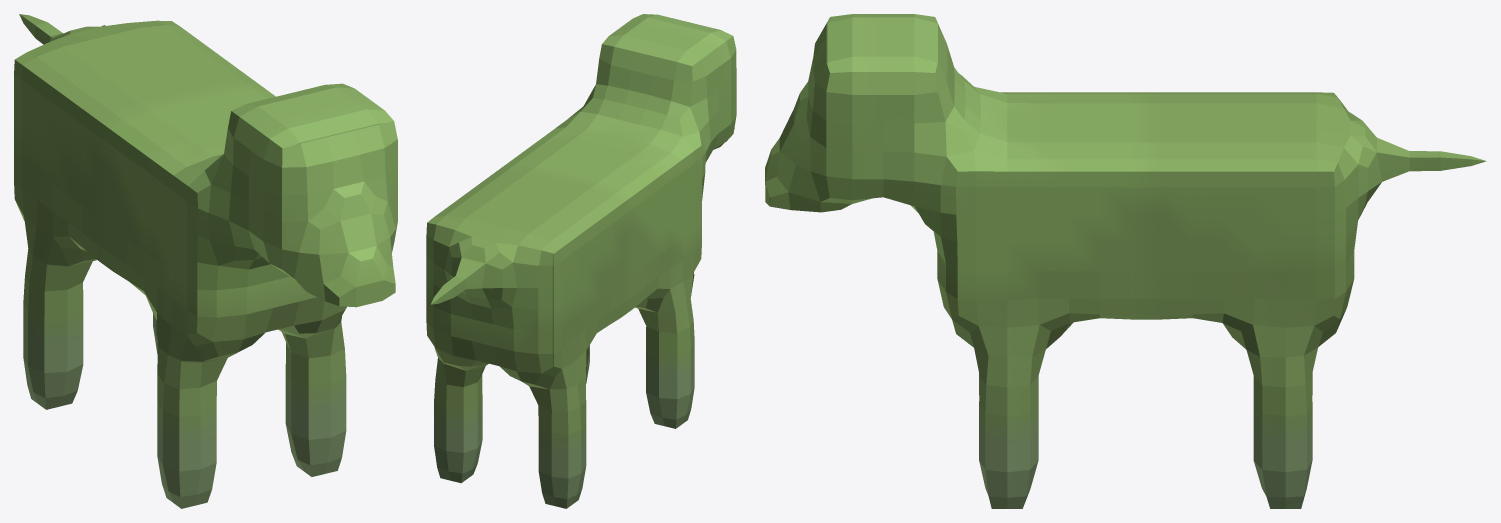
The model's file is werewolf.glb.
3 renders of one model, left to right at view 1: azimuth 30°, elevation 25°; view 2: azimuth 150°, elevation 25°; view 3: azimuth 270°, elevation 25°, orthographic. The views are drawn at different scales.
Visible parts, largest first — view 1: geometry_0; view 2: geometry_0; view 3: geometry_0.
Boxes of the visible parts, bbox=[...] form: geometry_0: bbox=[14, 14, 397, 508]; geometry_0: bbox=[426, 14, 736, 508]; geometry_0: bbox=[765, 14, 1486, 508].
Size of the model in its own units: 0.4437 by 1 by 1.51.
1 material, 1 textured.
